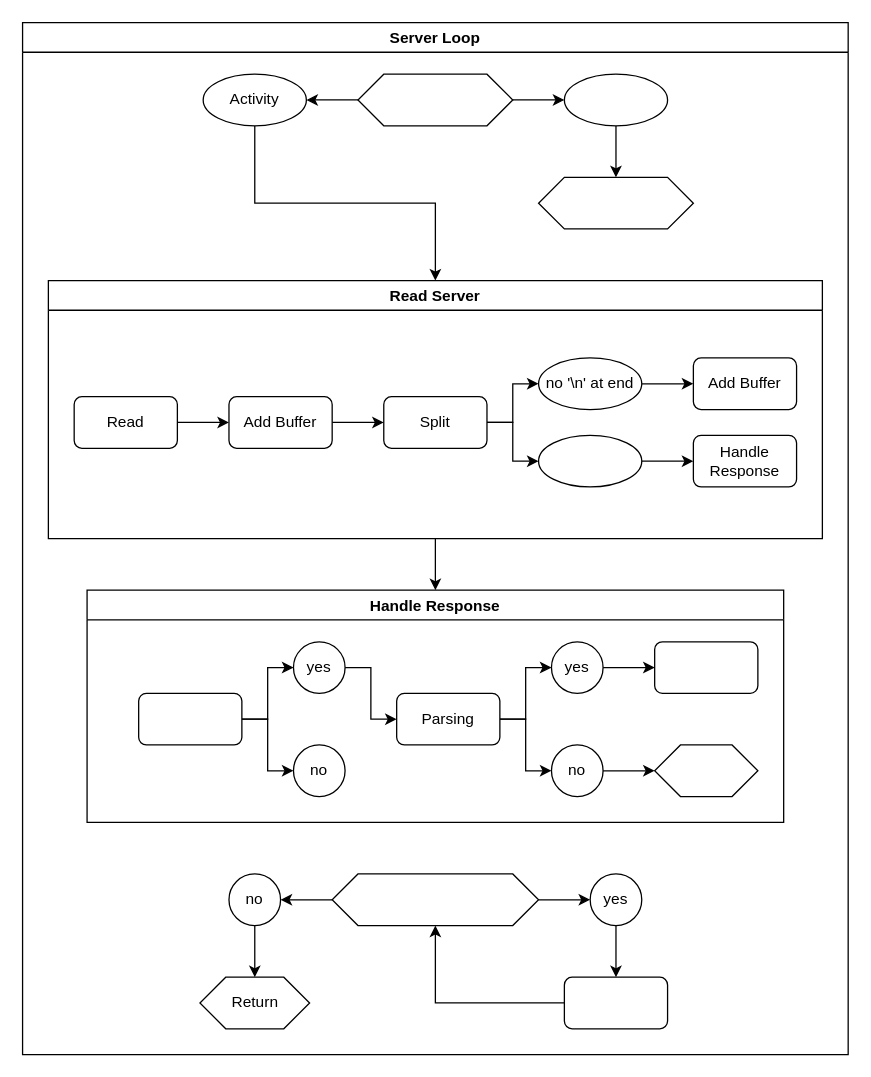
Image size: 871x1077. Some labels were removed from this diagram. The box of each missing label's shape, as (x1, y1, x2, y2) in pixels:
"sbp": (653, 744, 758, 797)
'\n' at end: (537, 434, 642, 487)
Find command: (137, 692, 242, 745)
Get Activity: (357, 73, 513, 126)
Get Arguments: (653, 640, 758, 693)
No Activity: (563, 73, 668, 126)
Shared Memory has command ?: (331, 873, 539, 926)
TRY_CONNECT: (537, 176, 693, 229)
Write: (563, 976, 668, 1029)
